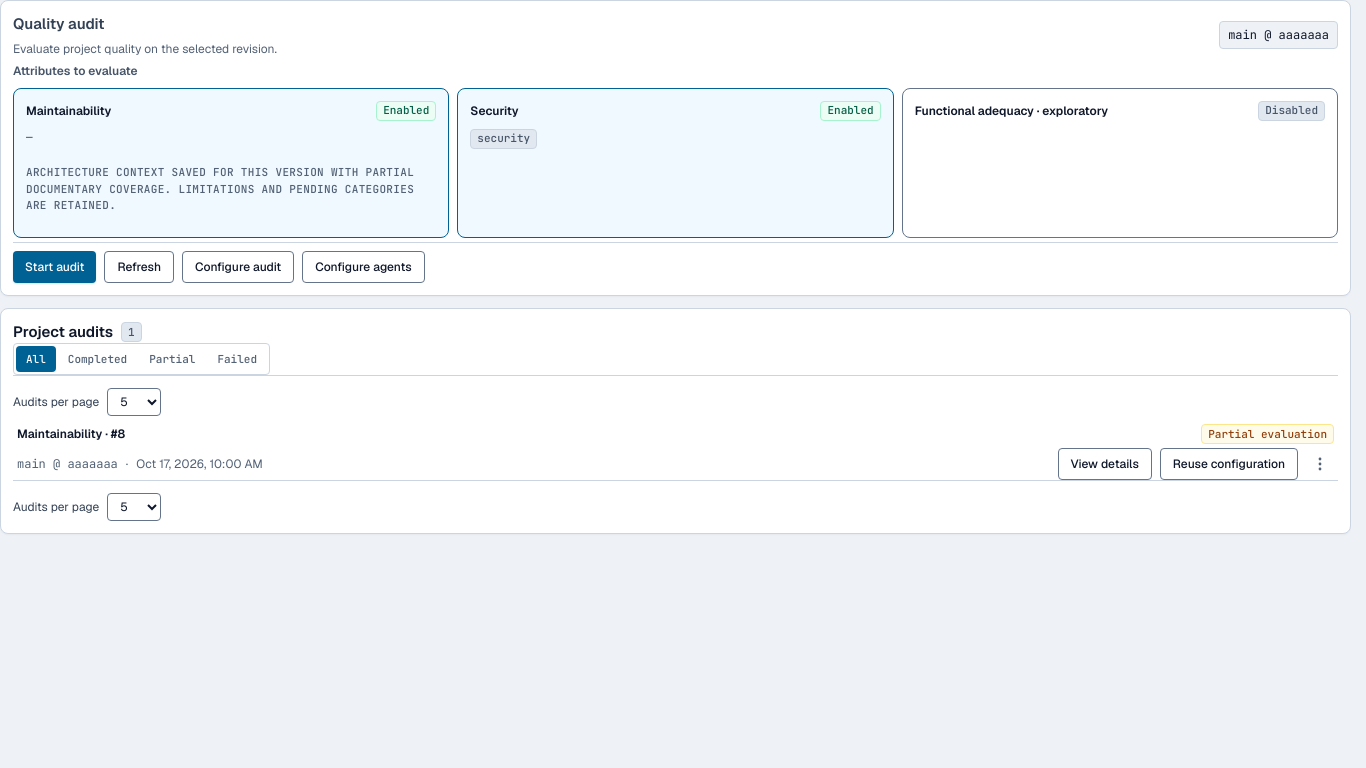
Test: project quality audits › uses the same secondary button style for the visible history actions and keeps secondary actions in the menu
Expected: the link "View Blackboard" is not shown
Click the button named "More actions for audit" at (1320, 464), box x1=1306 y1=450 x2=1334 y2=478
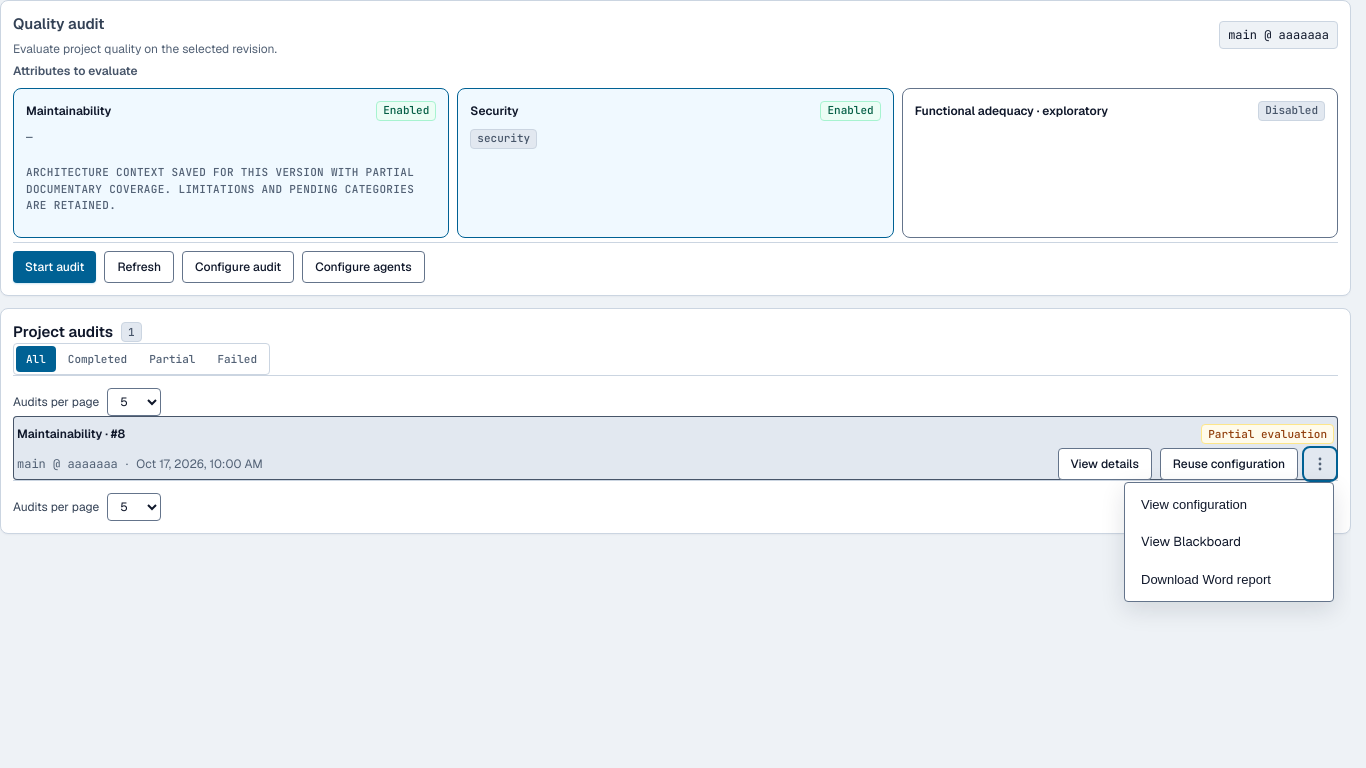
Result: the button "View configuration" is shown at x1=1129 y1=487 x2=1329 y2=522
Result: the button "Download Word report" is shown at x1=1129 y1=562 x2=1329 y2=596
Result: the link "View Blackboard" is shown at x1=1141 y1=533 x2=1241 y2=550
